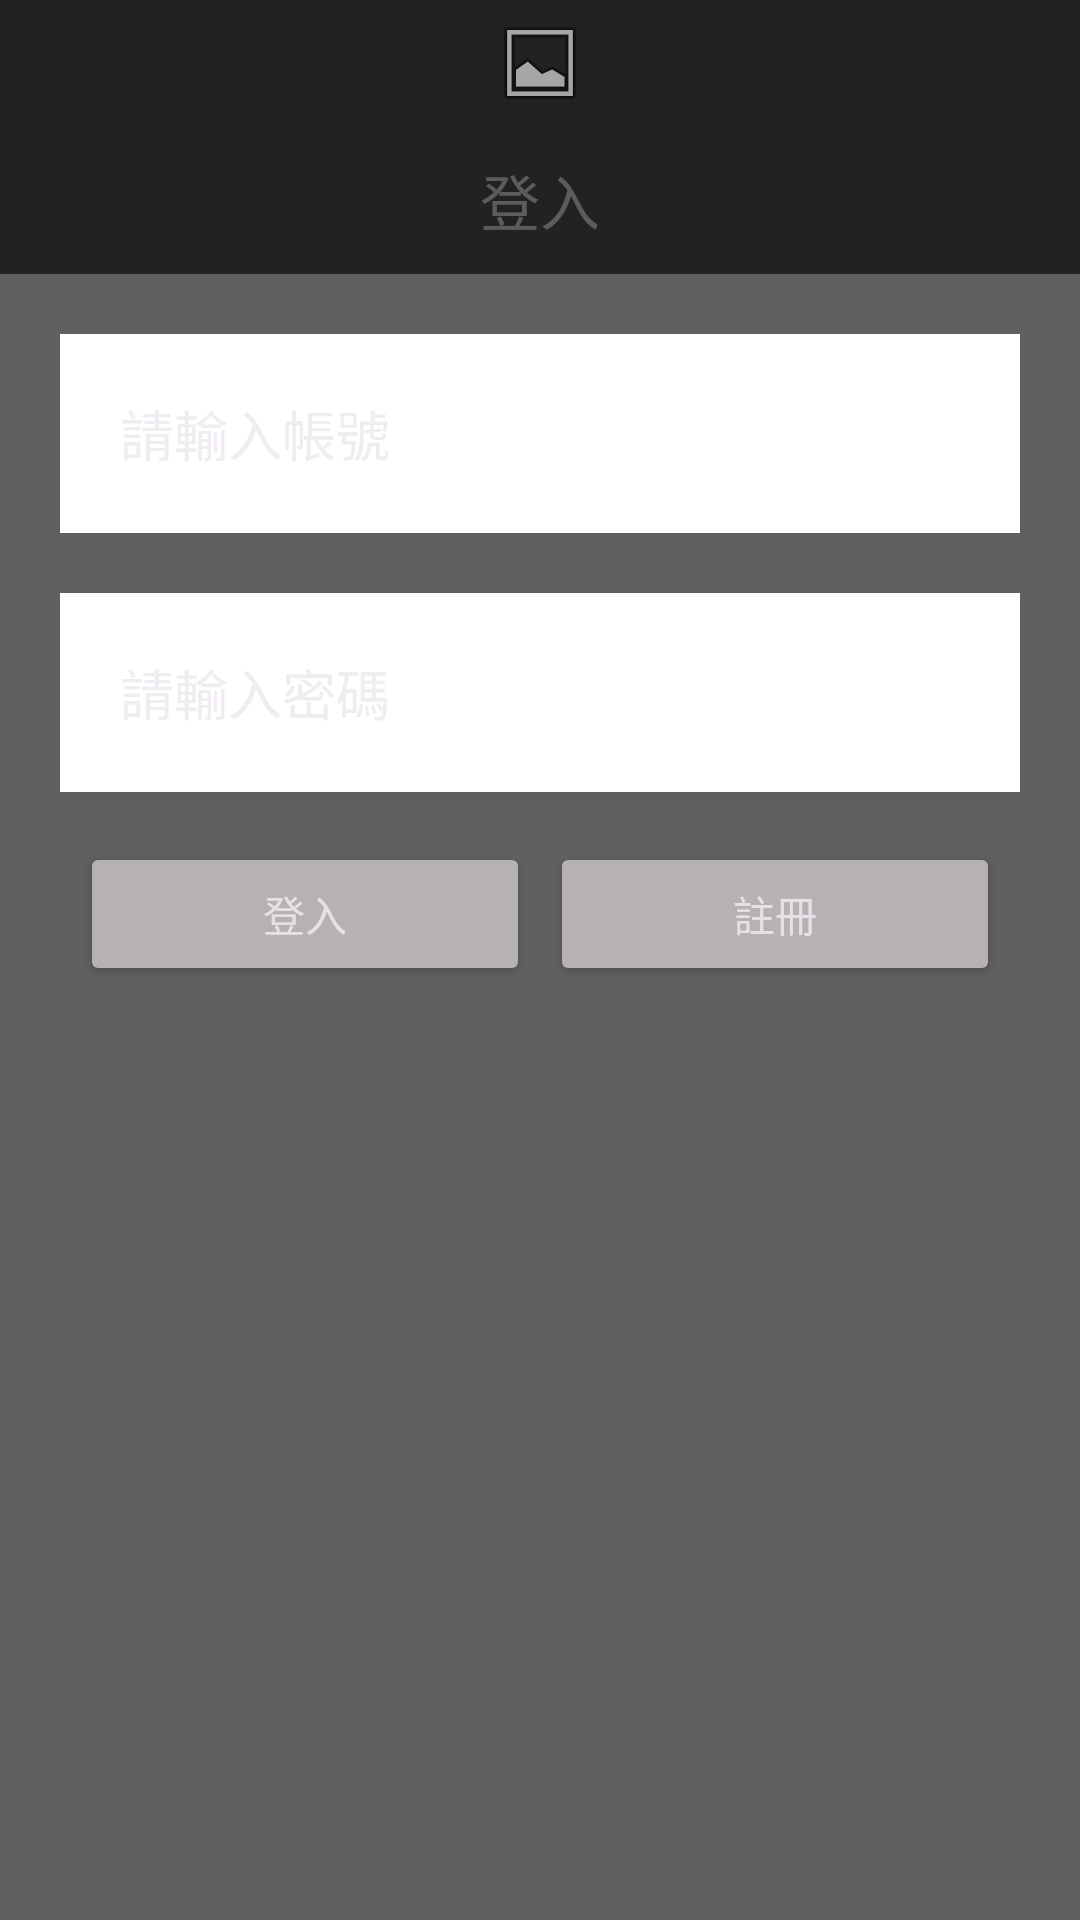

Icons on this 1080px x 1920px Android screen, each with the point to tap as [x,y]:
gallery: [540,63]
